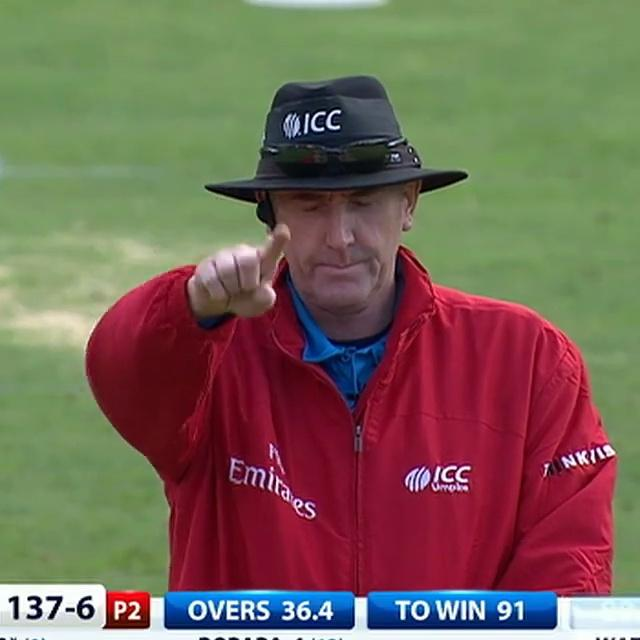umpire: (60, 42, 640, 594)
